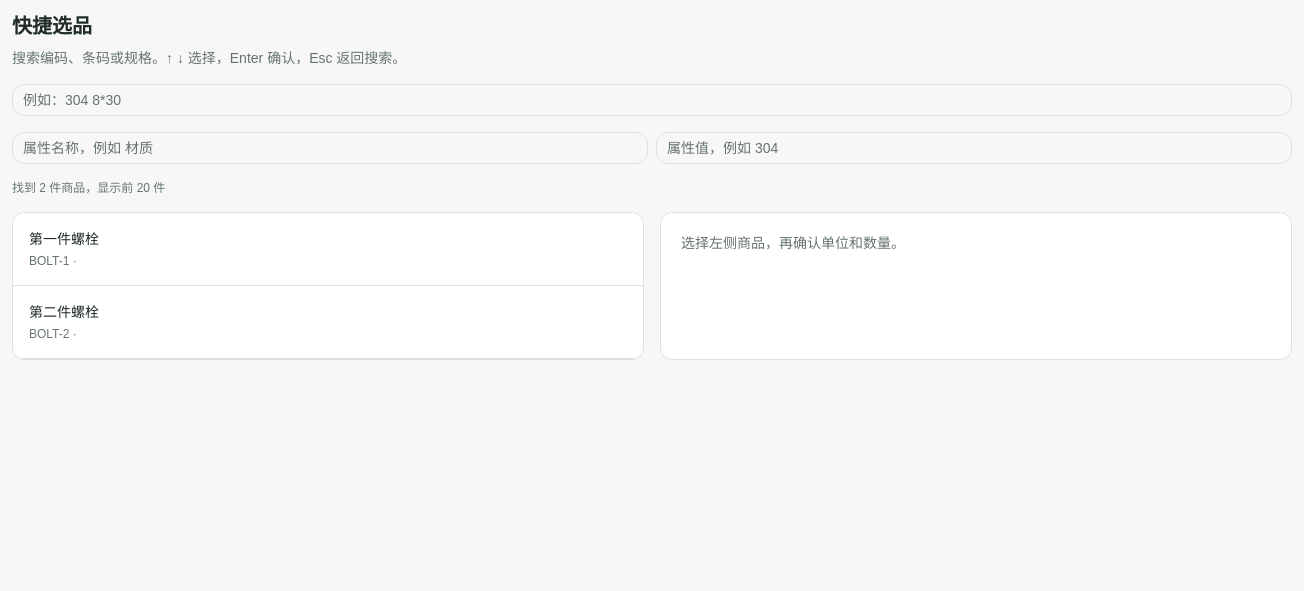
Test case: first ArrowDown chooses the first similar product and changing search clears selection
Expected: the option "第一件螺栓 BOLT-1 ·" is shown, x1=13 y1=213 x2=643 y2=286
Press ArrowDown in the dropdown named "搜索商品", box x1=12 y1=84 x2=1292 y2=116
Press Enter in the dropdown named "搜索商品", box x1=12 y1=84 x2=1292 y2=116
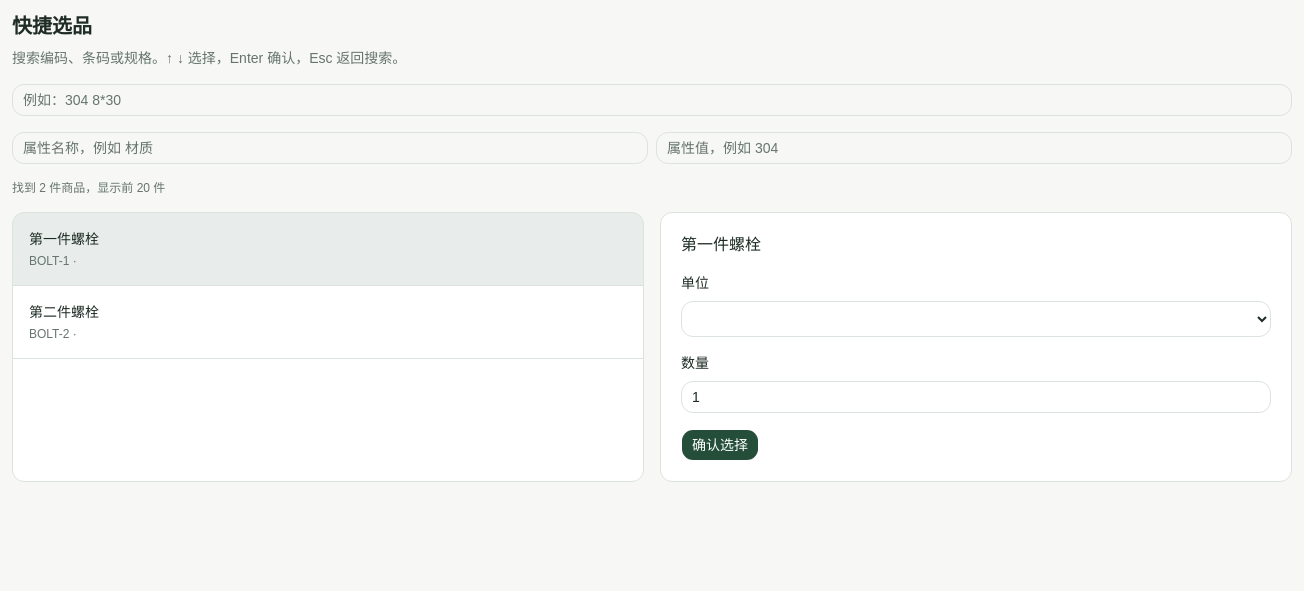
Expected: the heading "第一件螺栓" is shown, x1=681 y1=236 x2=761 y2=253
Click the button "确认选择": (720, 445) x1=681 y1=429 x2=759 y2=461
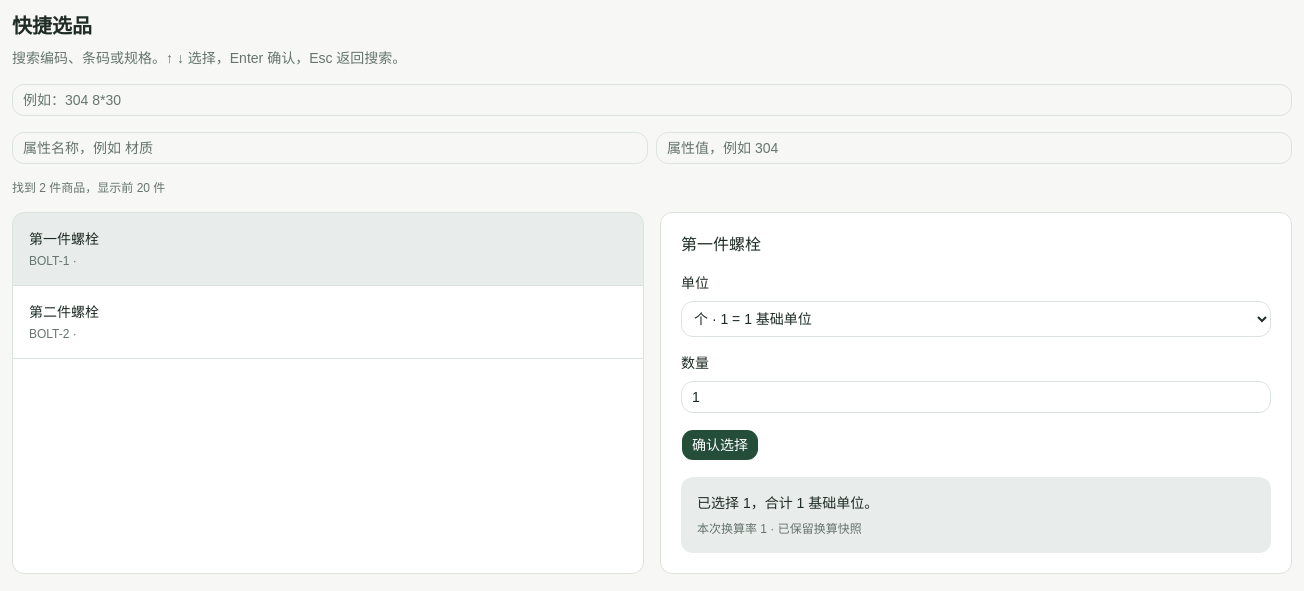
In the dropdown named "搜索商品": (652, 100) x1=12 y1=84 x2=1292 y2=116, type "另一个商品"
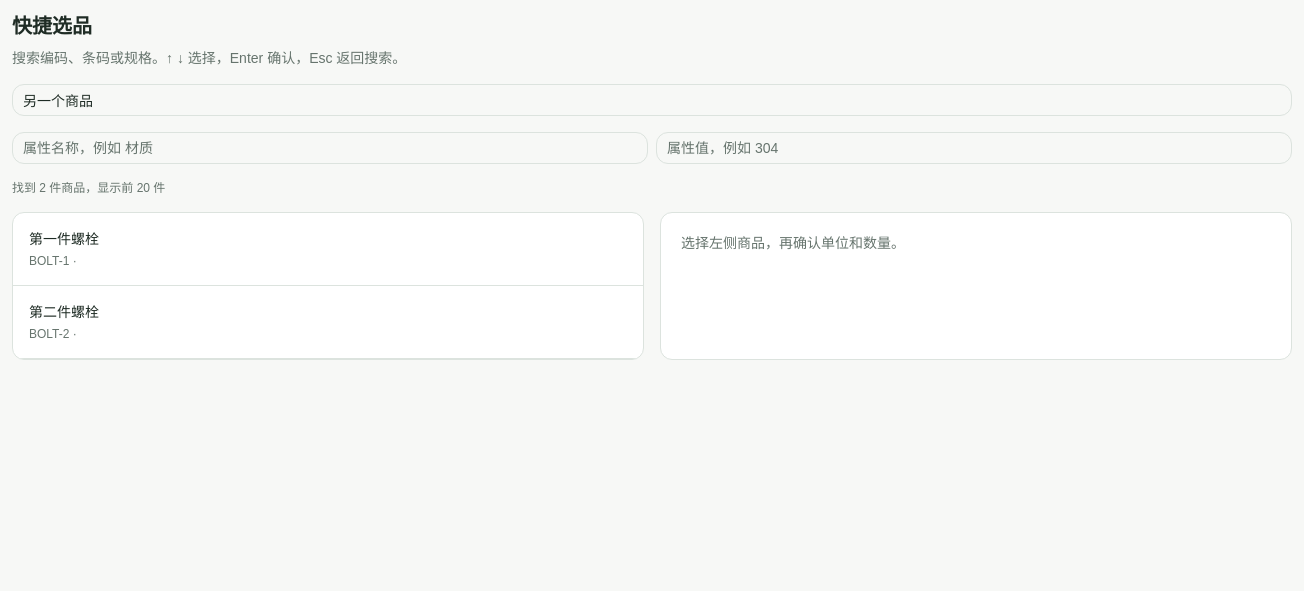
Expected: the button "确认选择" is gone
